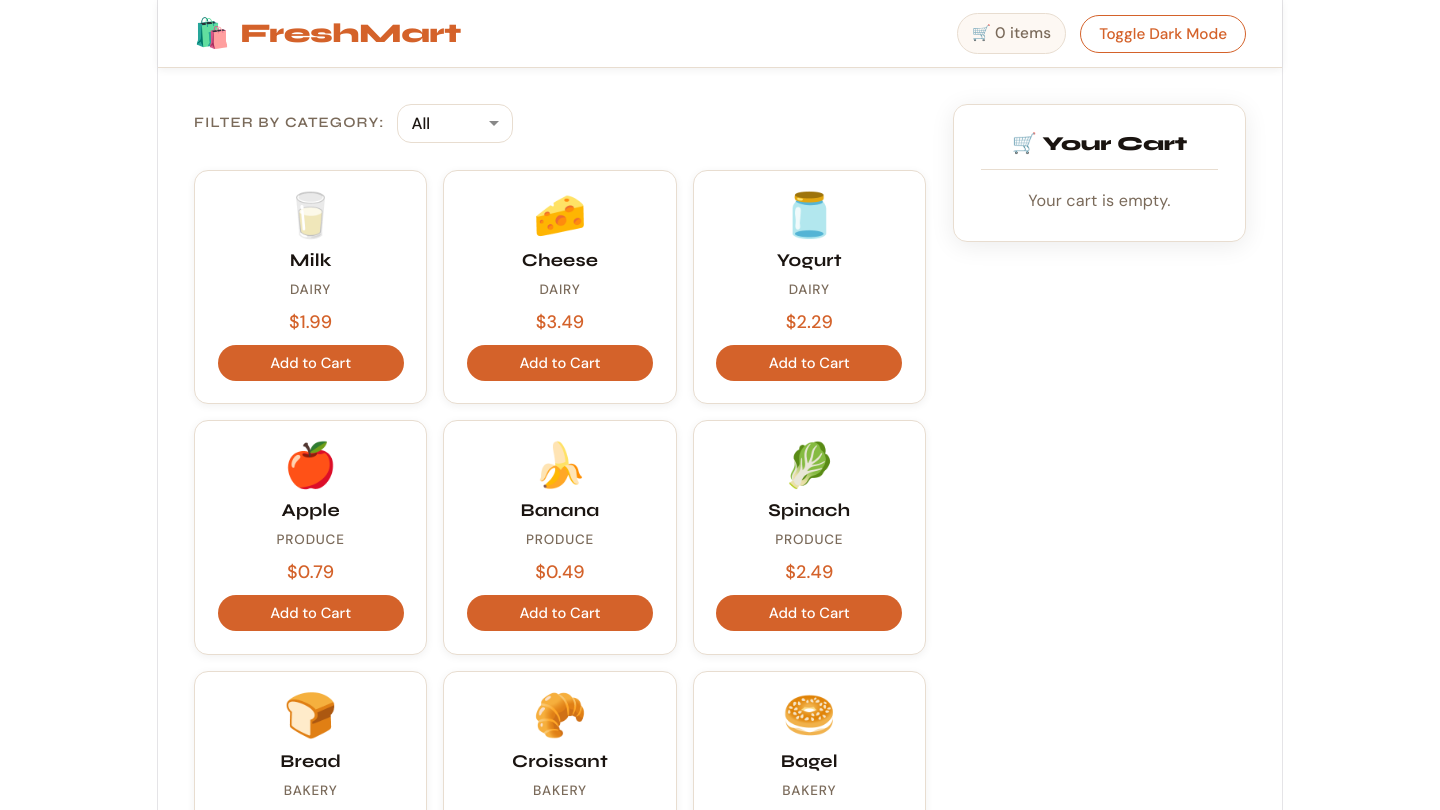
Dark Mode Toggle › changes button text to 'Toggle Light Mode' when clicked
This screenshot has width=1440, height=810.
Click the button "Toggle Dark Mode" at {"x": 1163, "y": 34}, box [1080,14,1246,52]
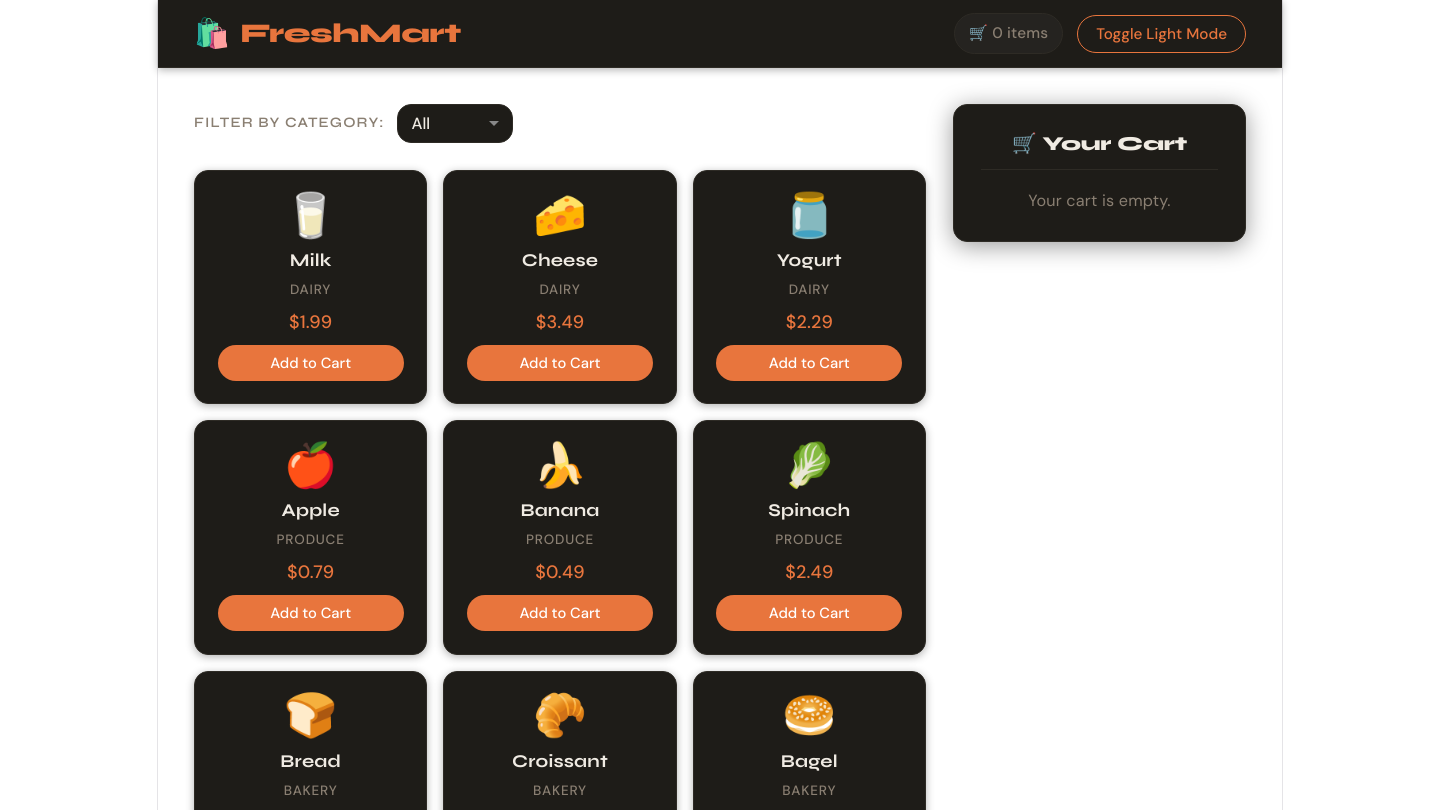
Expected: the button "Toggle Light Mode" is shown, [1077,14,1246,52]
